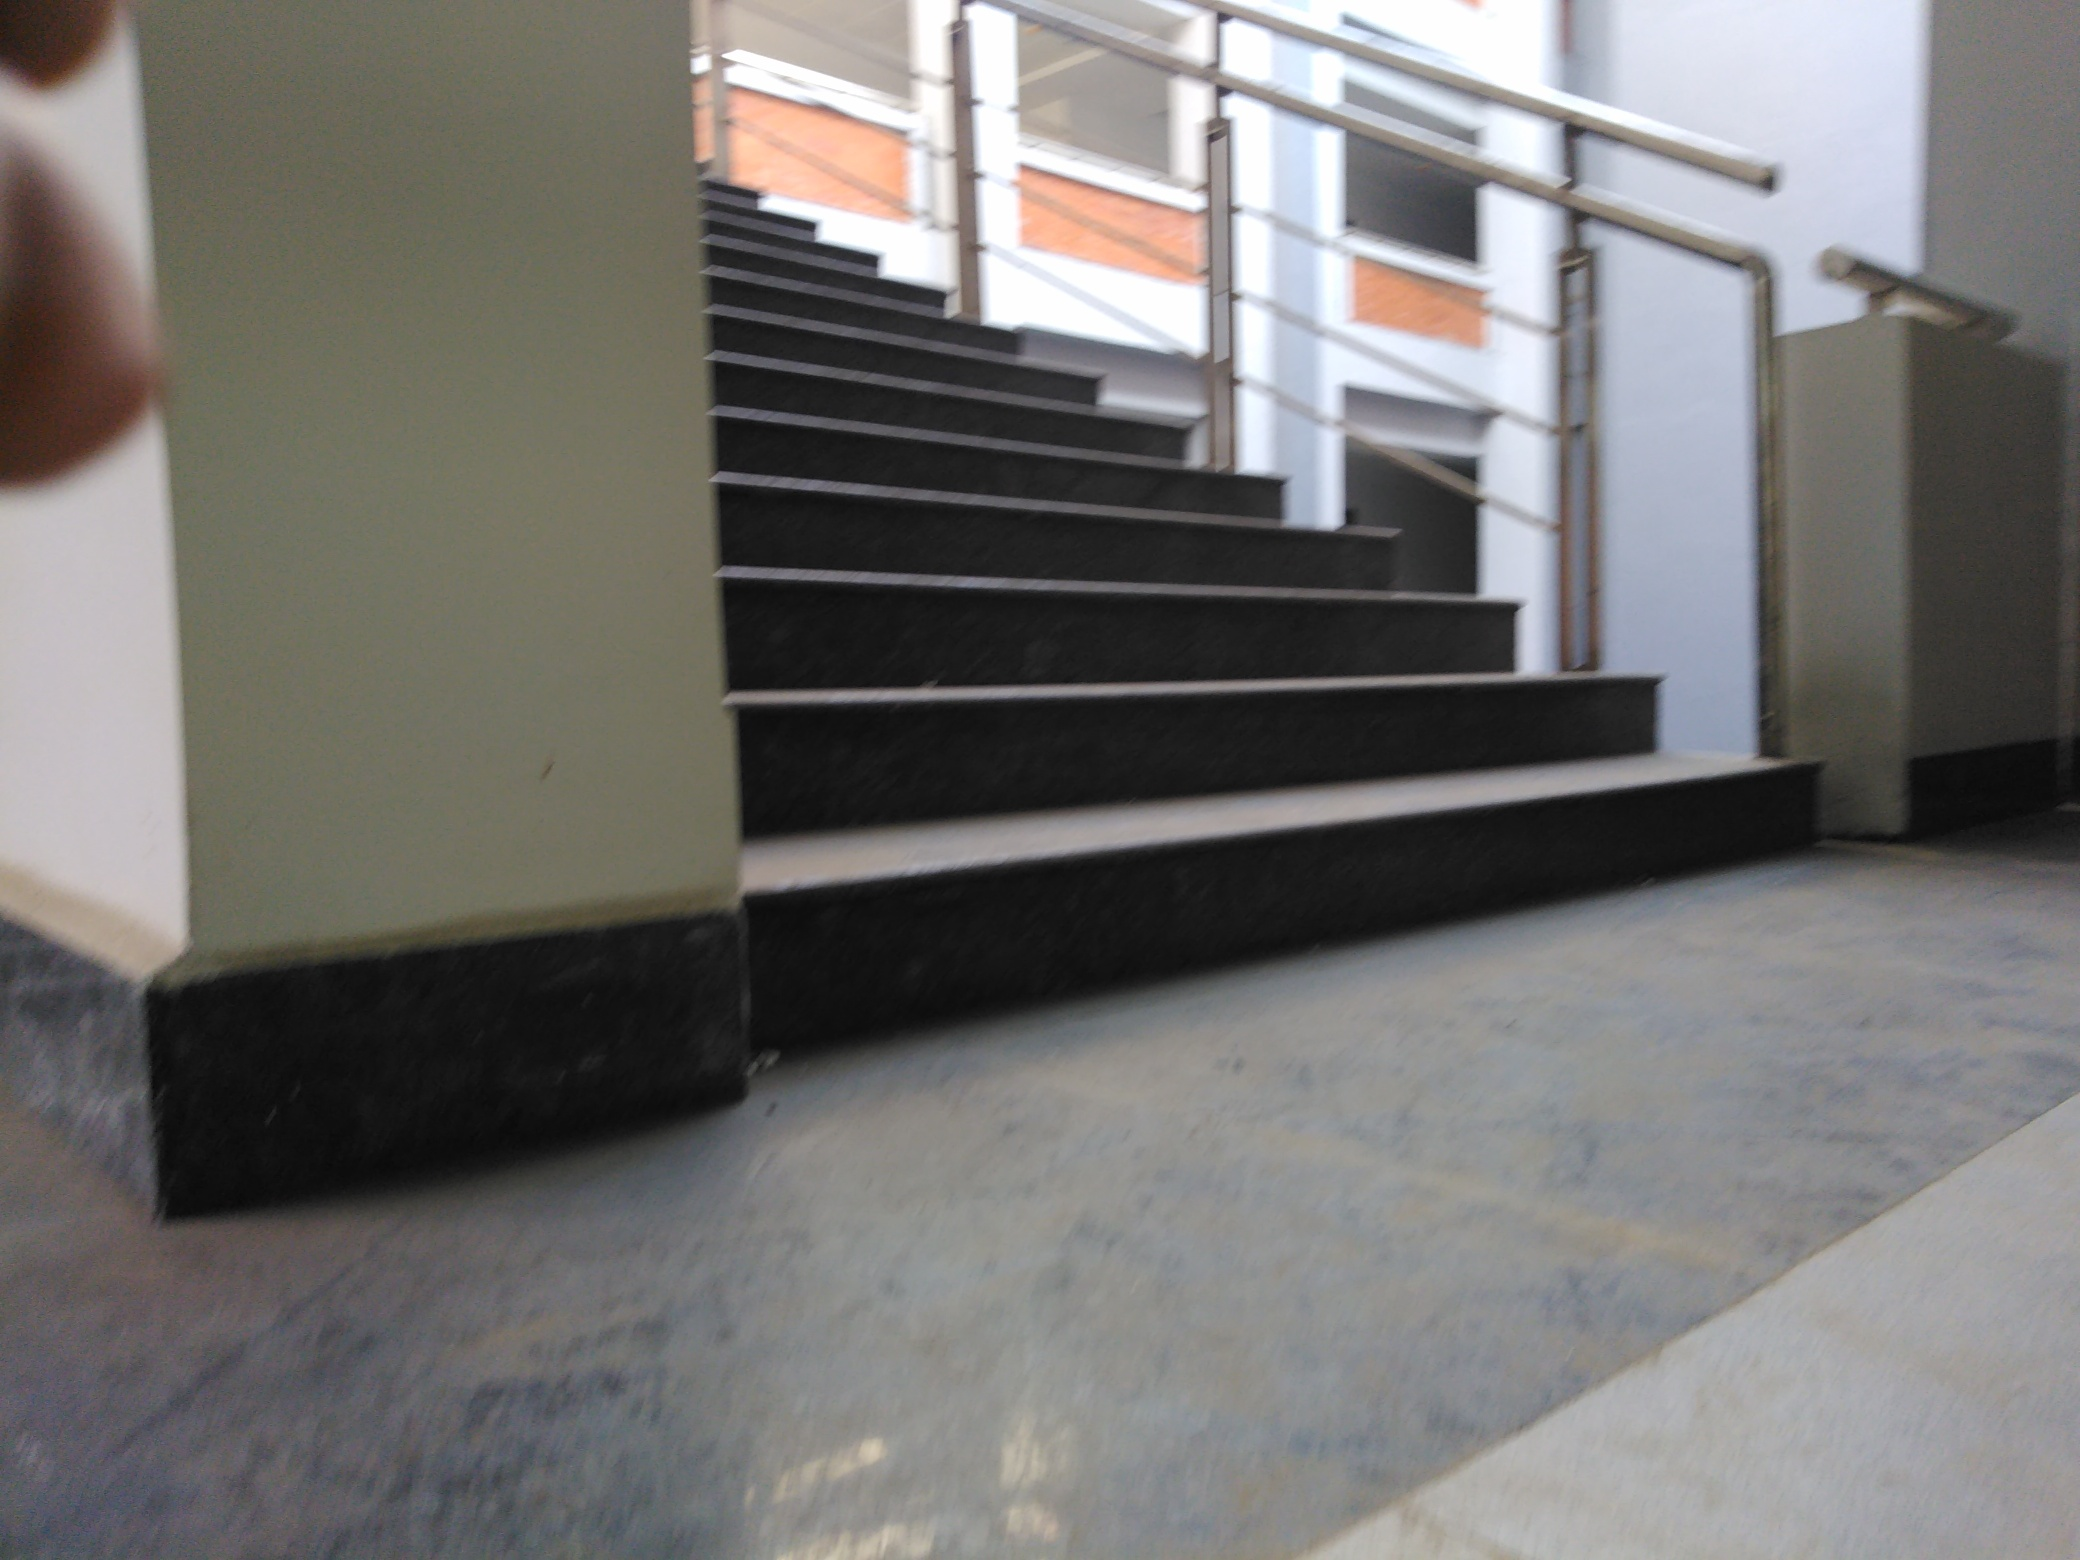stairs_up: (708, 174, 1741, 982)
